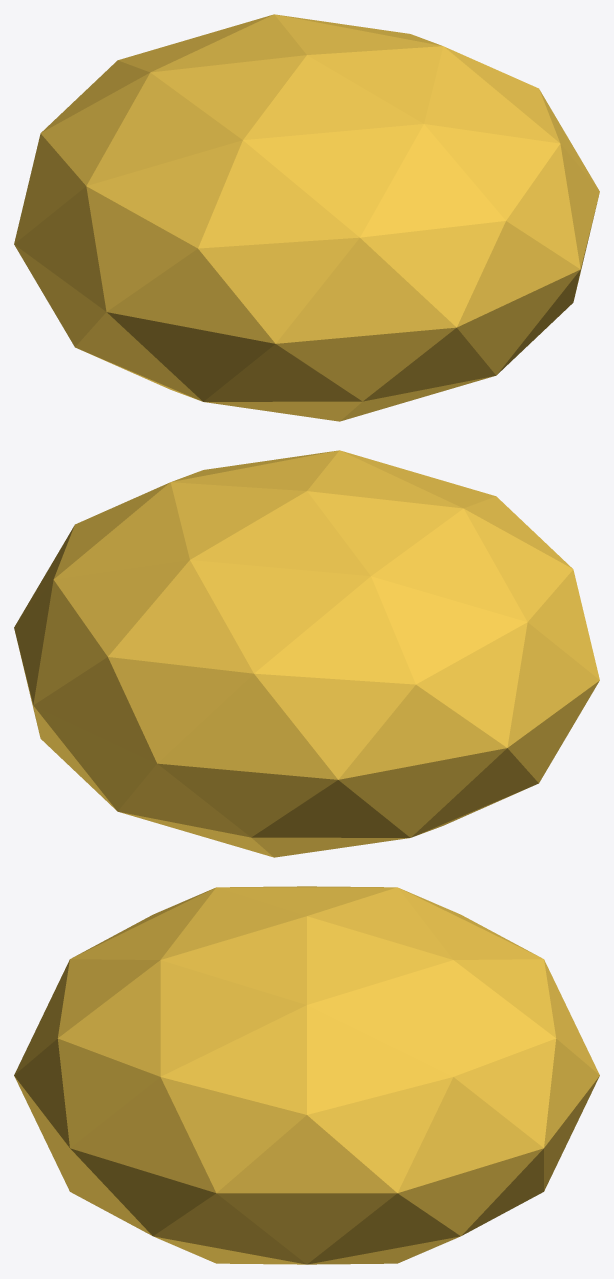
The model's file is beanbag.glb.
3 renders of one model, top to bottom at view 1: azimuth 30°, elevation 25°; view 2: azimuth 150°, elevation 25°; view 3: azimuth 270°, elevation 25°, orthographic. The views are drawn at different scales.
Visible parts, largest first — view 1: Icosphere; view 2: Icosphere; view 3: Icosphere.
Part boxes in pixels (x1,y1,x2,y2): Icosphere: [14, 14, 599, 421]; Icosphere: [14, 450, 599, 857]; Icosphere: [14, 886, 599, 1264].
Size of the model in its own units: 1.05 by 0.66 by 1.1.
